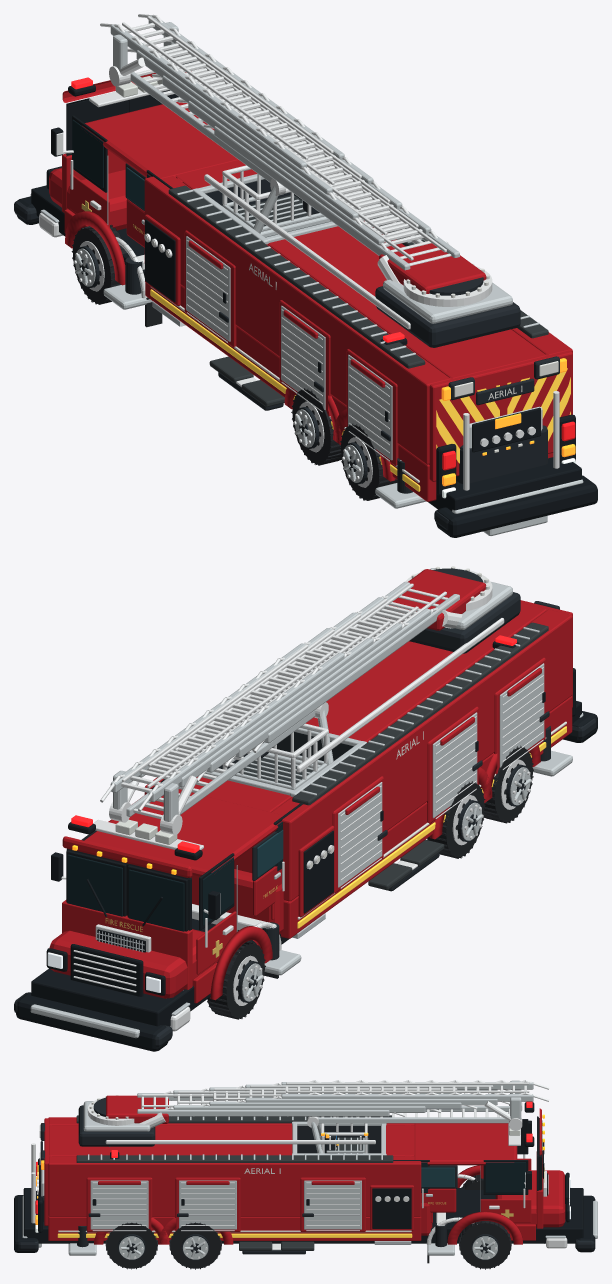
File: aerial-platform.glb
The picture shows the model from 3 angles, top to bottom: view 1: azimuth 30°, elevation 25°; view 2: azimuth 150°, elevation 25°; view 3: azimuth 270°, elevation 25°; orthographic projection. The views are drawn at different scales.
Parts seen in each view (by area): view 1: AerialBody_Rescue_red, AerialBody_Deep_black, AerialBody_Aluminum, AerialBody_Deck_Grip, AerialBody_Chrome, AerialBody_Graphite, LadderStage_Chrome.004, AerialBody_Reflective_Gold, Turntable base, LadderStage_Chrome.003, LadderStage_Aluminum.004, Ladder heel (+22 smaller); view 2: AerialBody_Rescue_red, AerialBody_Deep_black, AerialBody_Aluminum, Reusable pumper cab shell.001, Reusable pumper cab shell.006, AerialBody_Deck_Grip, AerialBody_Chrome, LadderStage_Chrome.004, Reusable pumper cab shell.003, LadderStage_Chrome.003, LadderStage_Aluminum.004, Ladder heel (+20 smaller); view 3: AerialBody_Rescue_red, AerialBody_Aluminum, AerialBody_Deep_black, AerialBody_Deck_Grip, AerialBody_Chrome, LadderStage_Aluminum.004, AerialBody_Graphite, LadderStage_Chrome.004, LadderStage_Aluminum, Reusable pumper cab shell.006, LadderStage_Aluminum.002, Original pumper wheel geometry.001 (+28 smaller).
Boxes of the visible parts, box(x1,y1,x2,y2) form: AerialBody_Rescue_red: box(49, 102, 572, 501); AerialBody_Deep_black: box(17, 61, 597, 537); AerialBody_Aluminum: box(30, 174, 583, 535); AerialBody_Deck_Grip: box(168, 185, 548, 406); AerialBody_Chrome: box(144, 174, 559, 490); AerialBody_Graphite: box(14, 163, 589, 530); LadderStage_Chrome.004: box(100, 14, 334, 165); AerialBody_Reflective_Gold: box(150, 289, 570, 491); Turntable base: box(375, 286, 520, 347); LadderStage_Chrome.003: box(127, 41, 364, 191); LadderStage_Aluminum.004: box(110, 14, 344, 168); Ladder heel: box(379, 243, 486, 293); AerialBody_Rescue_red: box(49, 600, 572, 1000); AerialBody_Deep_black: box(16, 641, 597, 1051); AerialBody_Aluminum: box(30, 627, 583, 1038); Reusable pumper cab shell.001: box(67, 821, 282, 931); Reusable pumper cab shell.006: box(62, 836, 274, 1003); AerialBody_Deck_Grip: box(292, 622, 548, 890); AerialBody_Chrome: box(73, 618, 543, 992); LadderStage_Chrome.004: box(100, 644, 333, 811); Reusable pumper cab shell.003: box(51, 779, 302, 952); LadderStage_Chrome.003: box(129, 629, 361, 784); LadderStage_Aluminum.004: box(110, 643, 344, 801); Ladder heel: box(389, 569, 486, 630); AerialBody_Rescue_red: box(44, 1117, 565, 1244); AerialBody_Aluminum: box(22, 1116, 597, 1247); AerialBody_Deep_black: box(14, 1102, 595, 1252); AerialBody_Deck_Grip: box(76, 1115, 393, 1250); AerialBody_Chrome: box(31, 1140, 569, 1250); LadderStage_Aluminum.004: box(281, 1082, 533, 1101); AerialBody_Graphite: box(19, 1123, 594, 1254); LadderStage_Chrome.004: box(285, 1080, 549, 1101); LadderStage_Aluminum: box(137, 1093, 389, 1116); Reusable pumper cab shell.006: box(430, 1108, 543, 1240); LadderStage_Aluminum.002: box(209, 1087, 461, 1109); Original pumper wheel geometry.001: box(459, 1221, 511, 1269).
Size of the model in its own units: 3.02 by 3.89 by 12.97.
